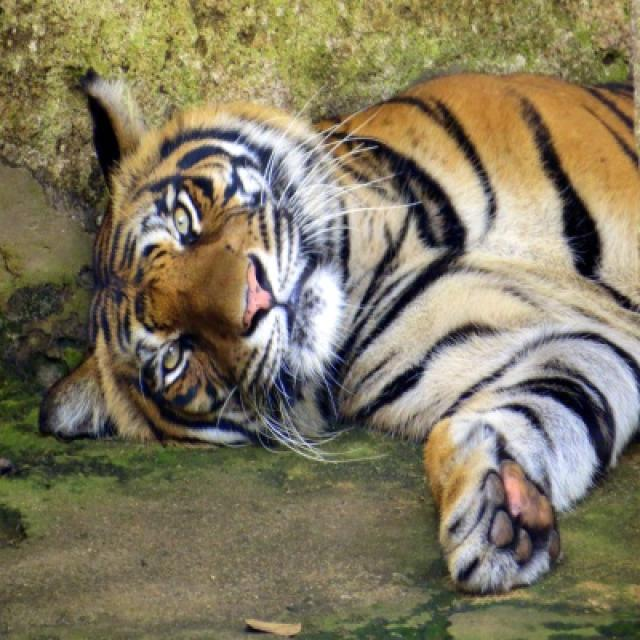Tiger: (40, 72, 638, 592)
